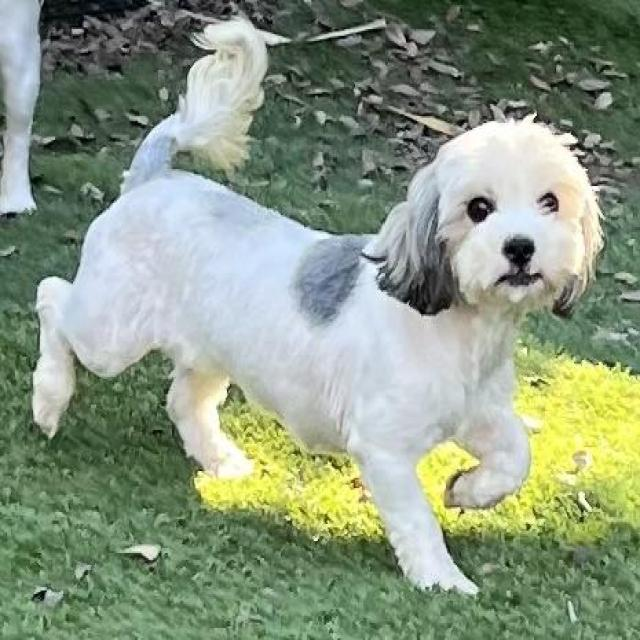shih_tzu_dog: (361, 102, 614, 338)
